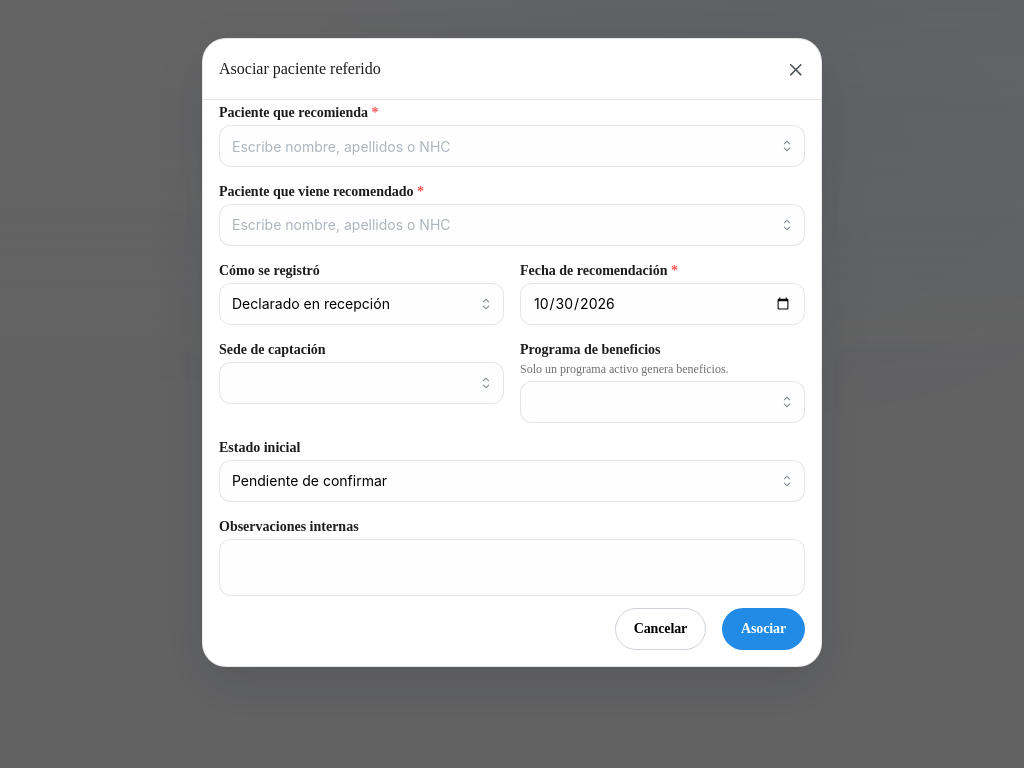
Test: ReferralLinkDialog › pide los dos pacientes antes de asociar
This screenshot has width=1024, height=768.
Step 1. Click the button "Asociar" → (764,629), box [722,608,805,650]
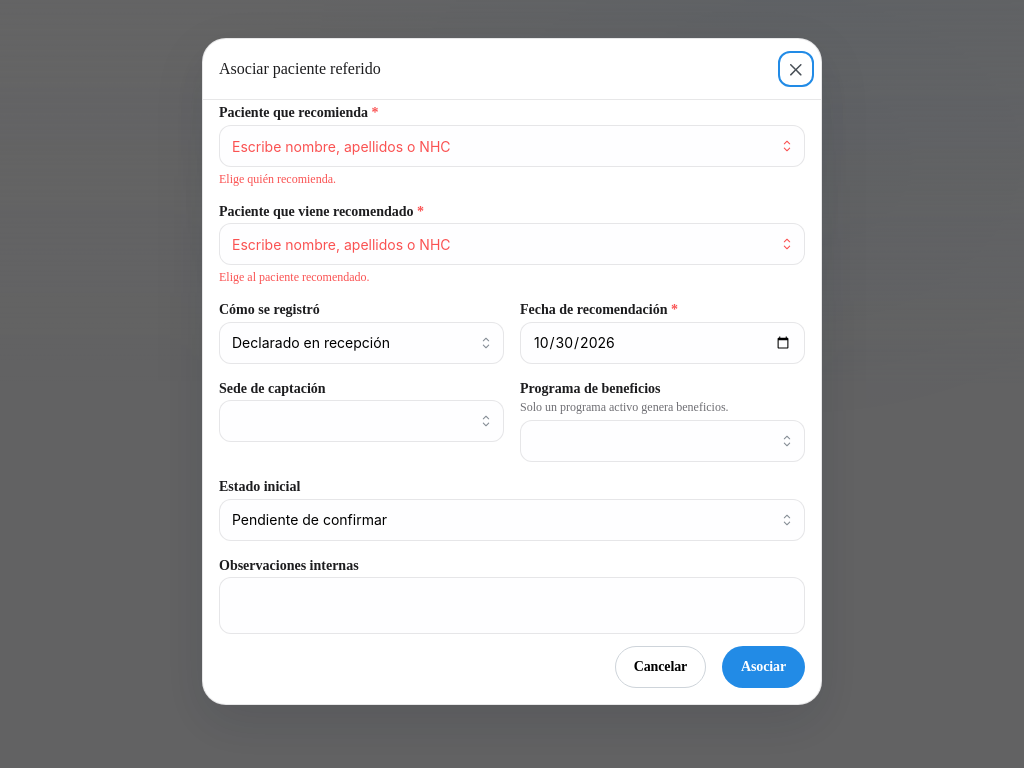
Result: the text "Elige quién recomienda." is shown at [219,172,336,186]
Result: the text "Elige al paciente recomendado." is shown at [219,270,370,284]
